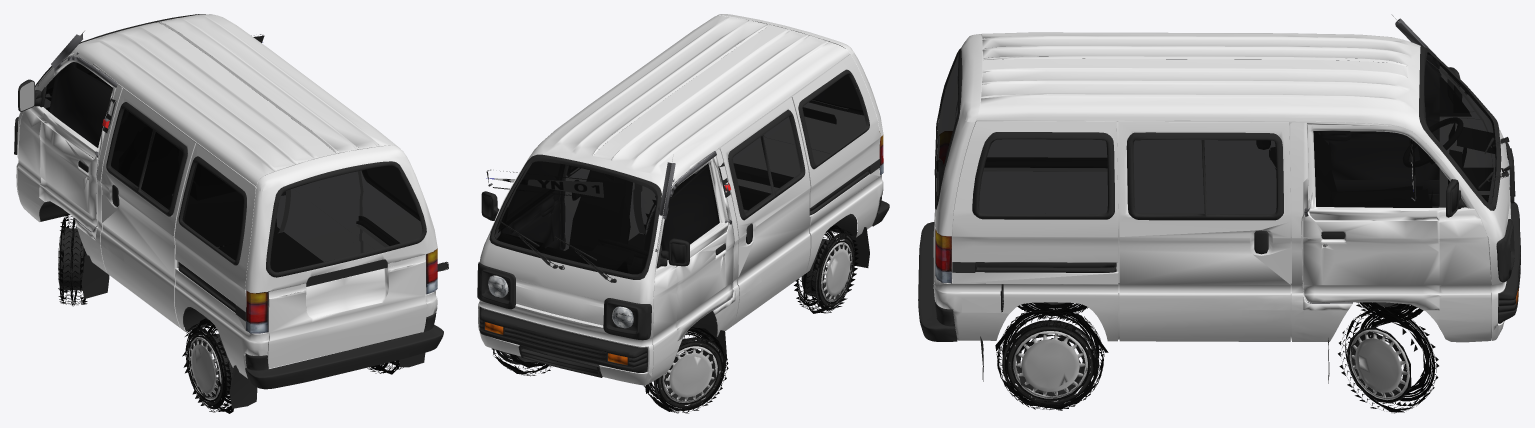
File: mula_van.glb
The picture shows the model from 3 angles, left to right: view 1: azimuth 30°, elevation 25°; view 2: azimuth 150°, elevation 25°; view 3: azimuth 270°, elevation 25°; orthographic projection. The views are drawn at different scales.
Parts seen in each view (by area): view 1: body, door_FL, wheel_RL, wheel_FL; view 2: body, door_FL, wheel_FL, wheel_RL, door_FR, wheel_FR, steering_wheel; view 3: body, door_FR, wheel_RR, wheel_FR, door_FL, wheel_FL, wheel_RL, steering_wheel.
Boxes of the visible parts, x1,y1,x2,y2 form: body: (14, 14, 448, 408); door_FL: (39, 33, 117, 240); wheel_RL: (182, 318, 233, 413); wheel_FL: (58, 214, 87, 306); body: (477, 14, 889, 385); door_FL: (658, 151, 735, 340); wheel_FL: (643, 326, 728, 413); wheel_RL: (794, 225, 858, 313); door_FR: (488, 183, 564, 249); wheel_FR: (491, 348, 551, 376); steering_wheel: (598, 239, 647, 264); body: (918, 14, 1520, 383); door_FR: (1303, 178, 1439, 310); wheel_RR: (995, 305, 1108, 410); wheel_FR: (1338, 306, 1438, 413); door_FL: (1317, 18, 1440, 205); wheel_FL: (1356, 302, 1423, 320); wheel_RL: (1017, 302, 1088, 319); steering_wheel: (1403, 118, 1462, 166).
Size of the model in its own units: 1.8 by 1.95 by 3.41.
Materials: 17 (5 with a texture image).
